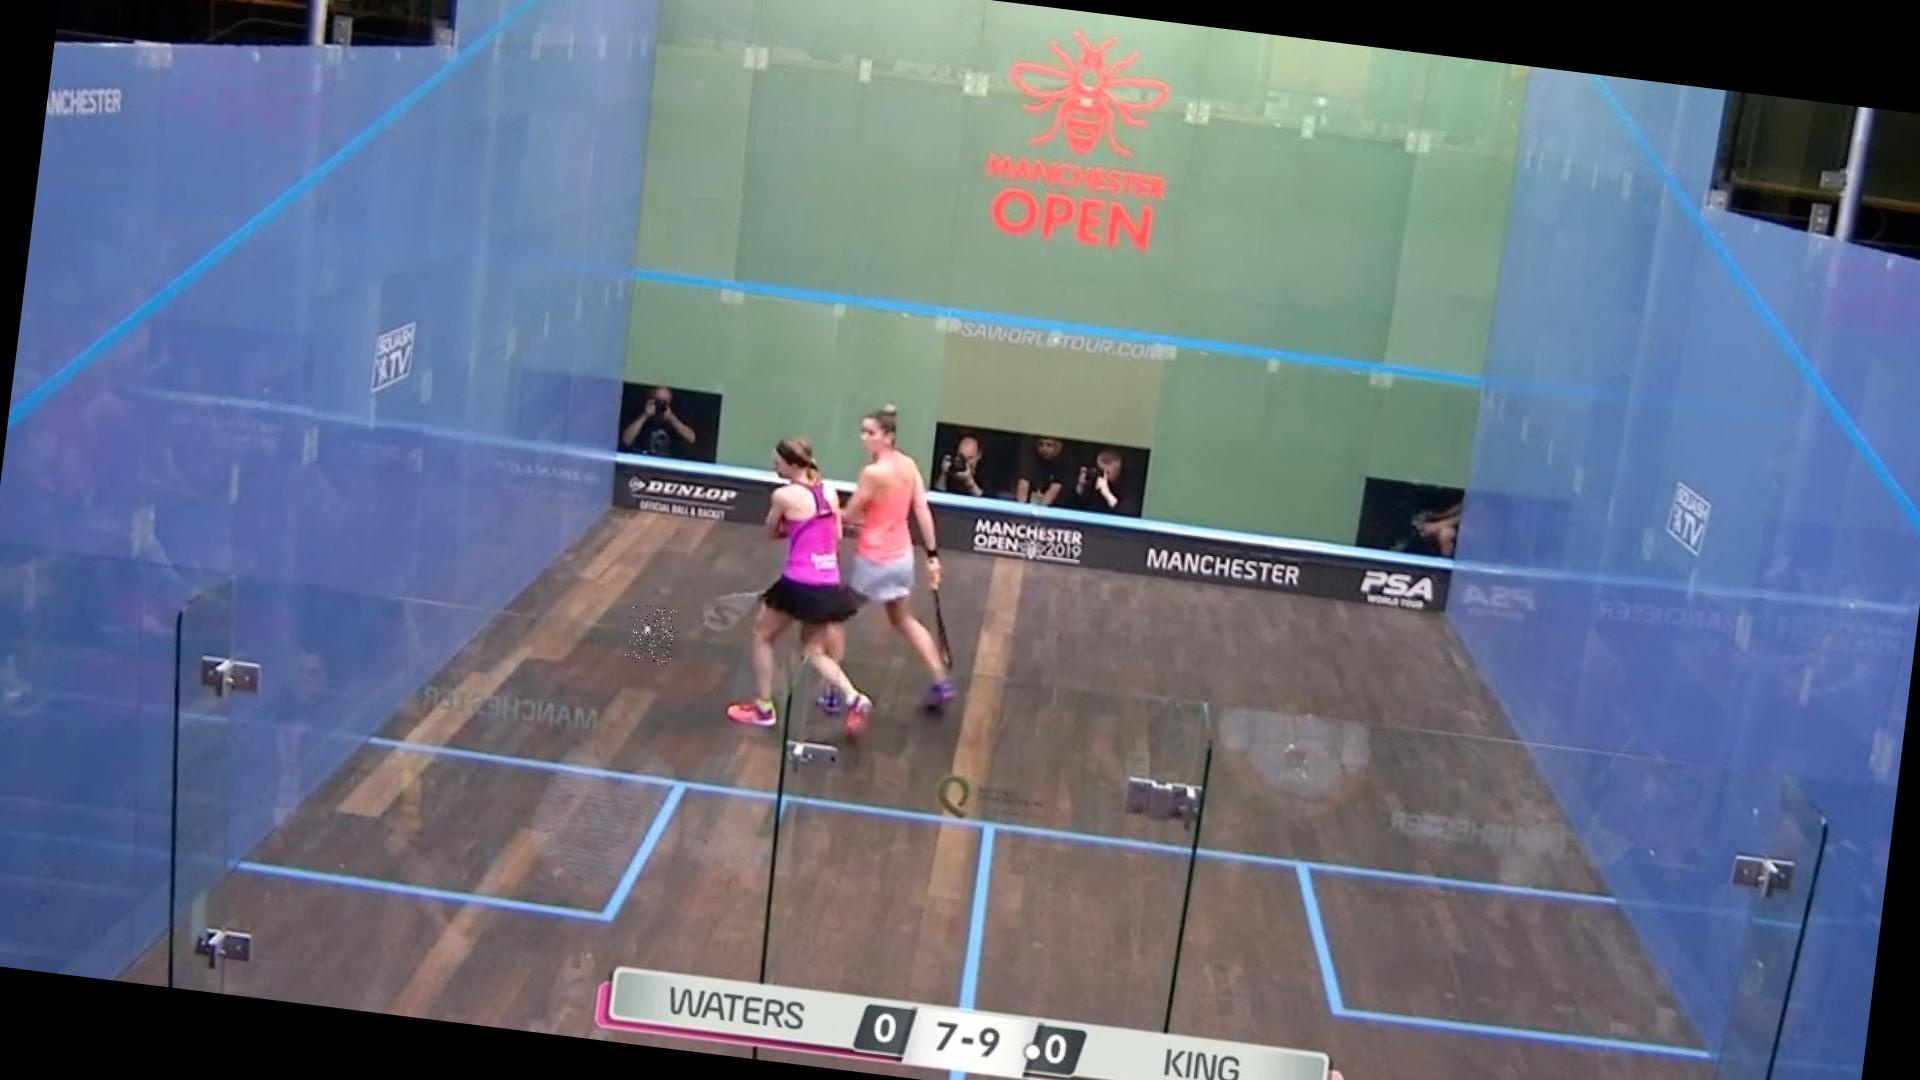Squash-Ball: (624, 603, 680, 667)
